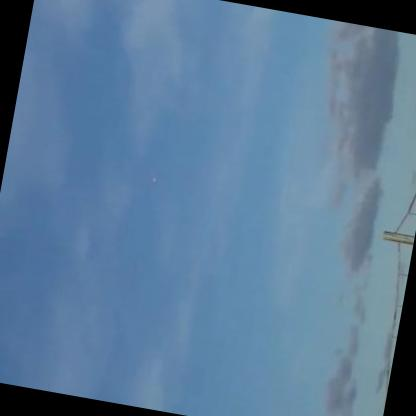plane: (147, 174, 158, 185)
